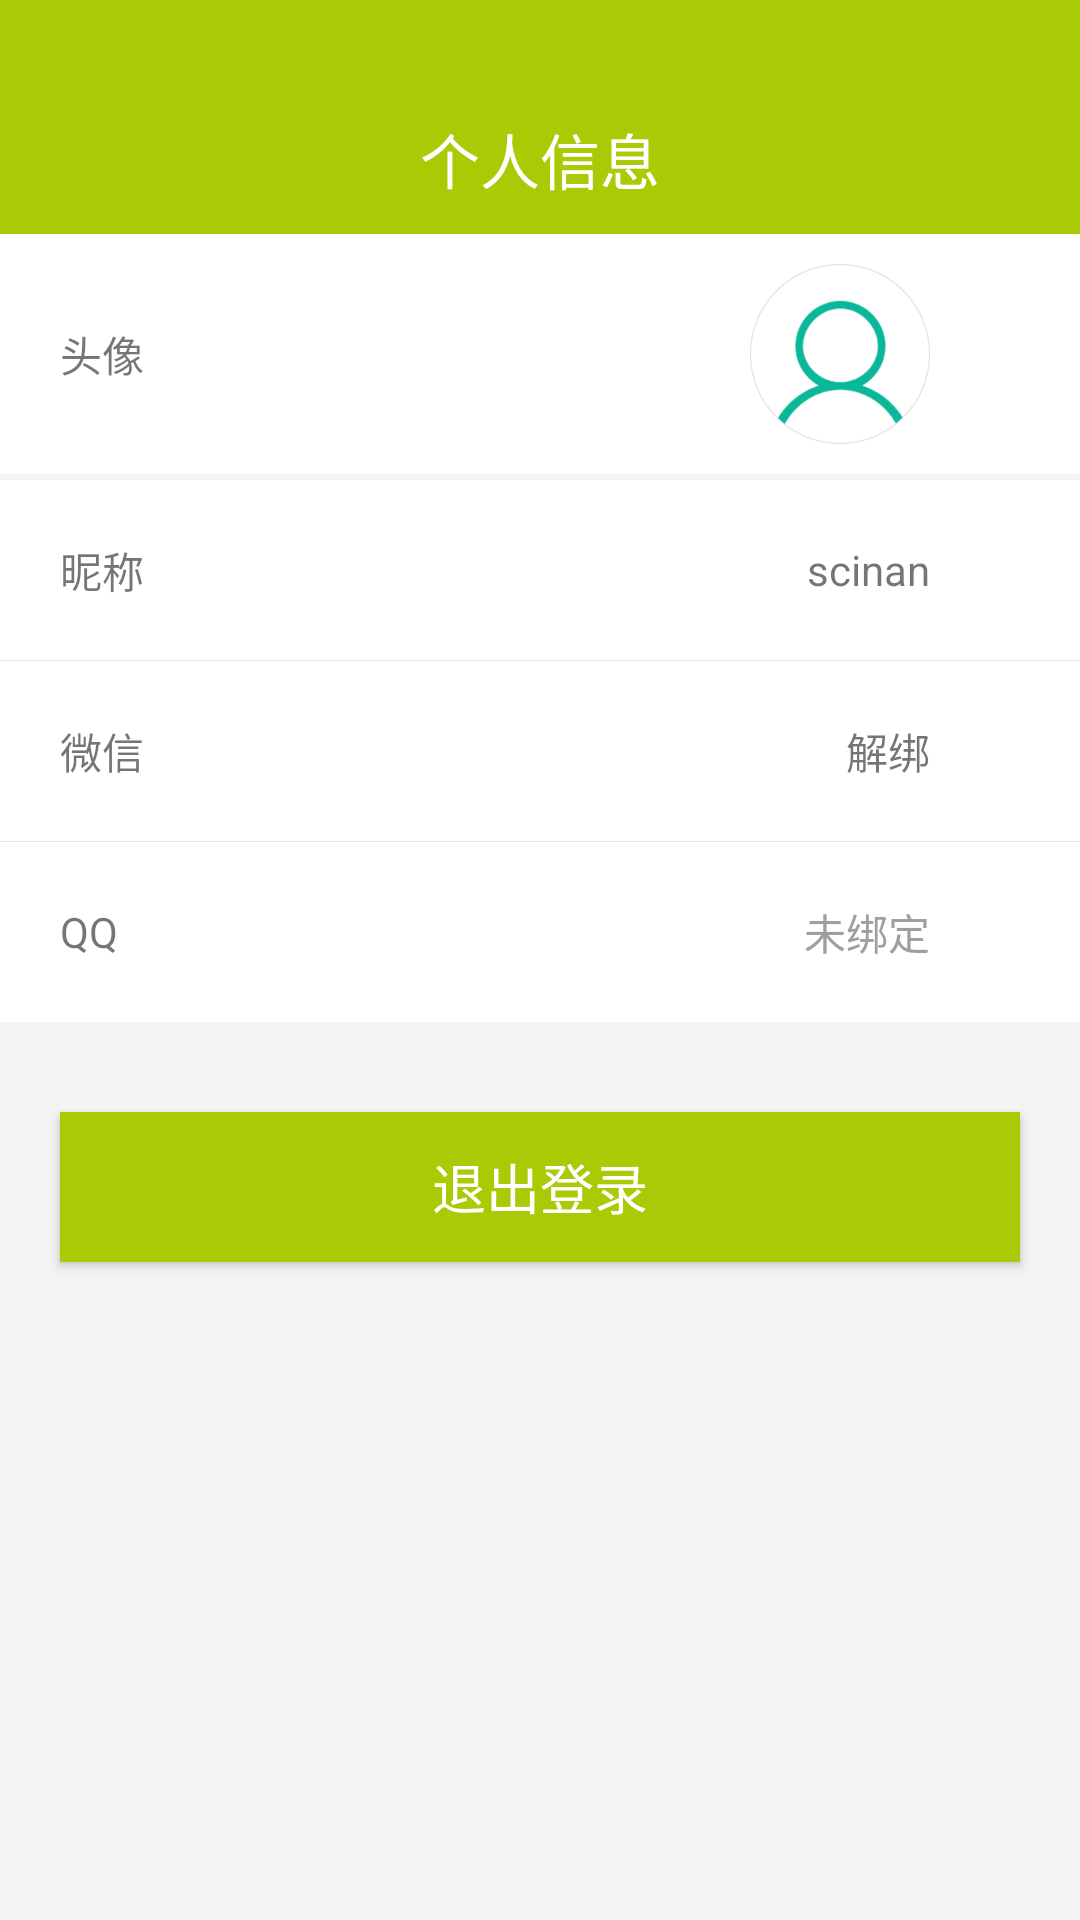

Point at icon controls on the screen. Image size 1080x1920, points as [x,y].
touxiang: [840,354]
